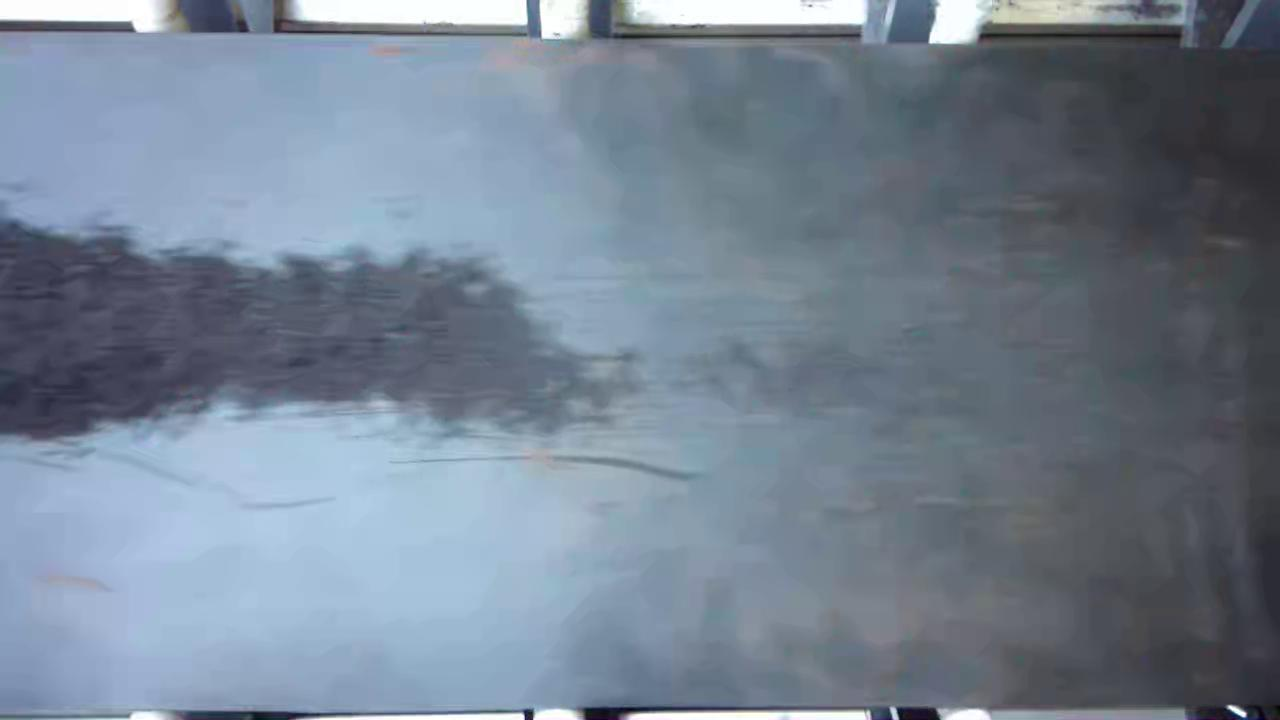conveyor: (1, 51, 1278, 694)
